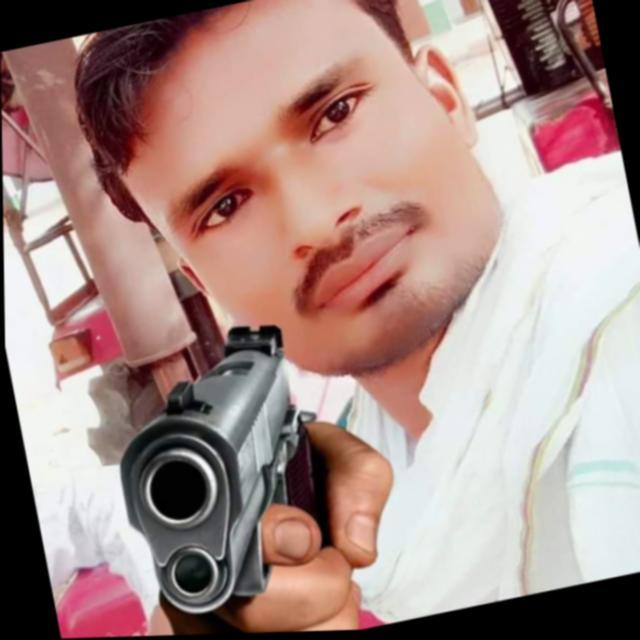weapon: (84, 305, 363, 638)
